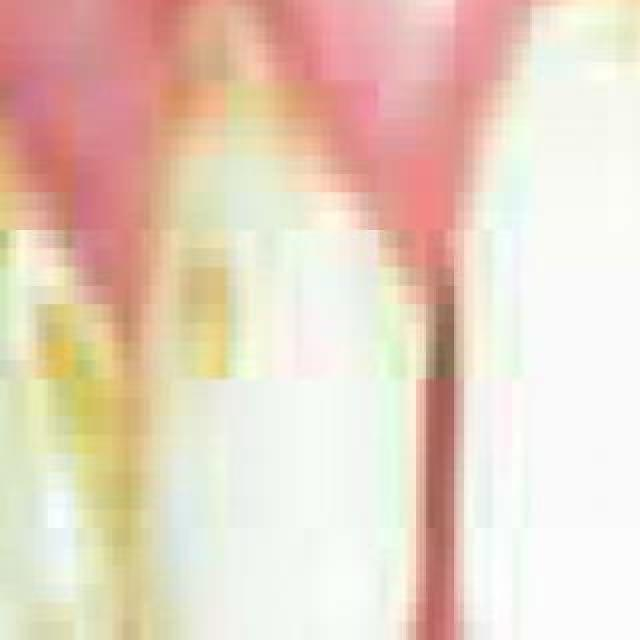cavities: (3, 285, 139, 481), (133, 274, 305, 404)
spacing: (342, 264, 500, 640)
